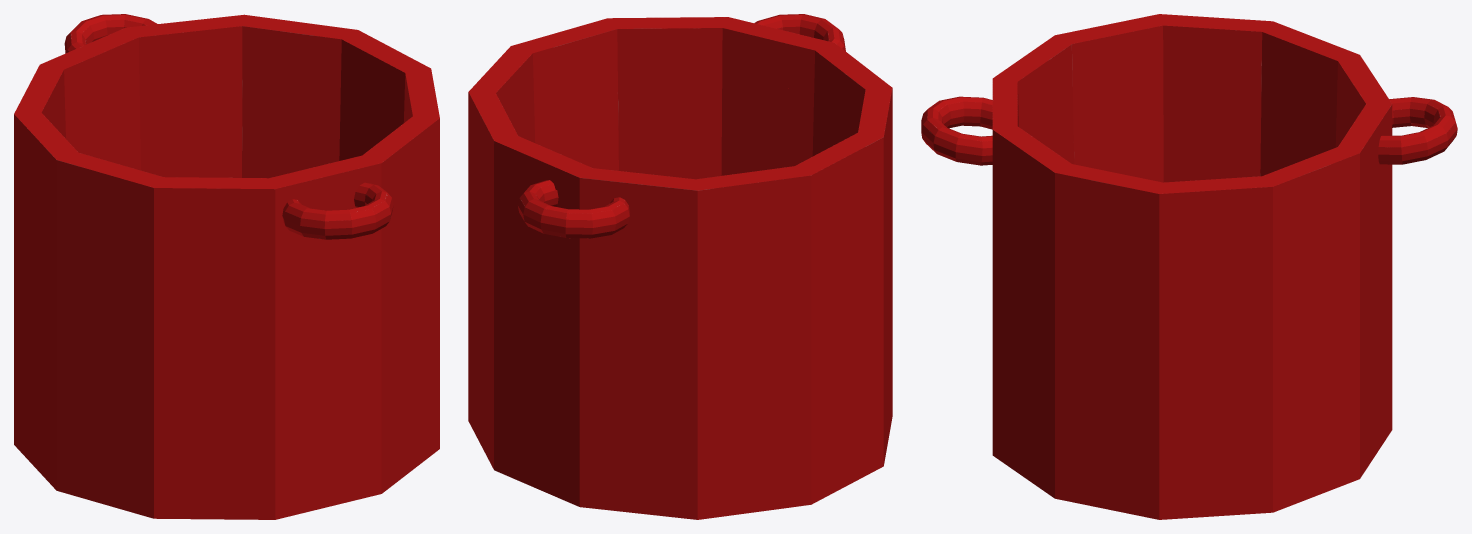
The model's file is OLLA_COLOR (1).fbx.
3 renders of one model, left to right at view 1: azimuth 30°, elevation 25°; view 2: azimuth 150°, elevation 25°; view 3: azimuth 270°, elevation 25°, orthographic.
Visible parts, largest first — view 1: Cylinder, Torus.001, Torus; view 2: Cylinder, Torus, Torus.001; view 3: Cylinder, Torus.001, Torus.
Boxes of the visible parts, left/top/right/bottom form: Cylinder: left=14, top=14, right=439, bottom=519; Torus.001: left=282, top=182, right=393, bottom=239; Torus: left=64, top=14, right=157, bottom=53; Cylinder: left=468, top=17, right=892, bottom=519; Torus: left=517, top=180, right=629, bottom=238; Torus.001: left=754, top=14, right=845, bottom=88; Cylinder: left=992, top=14, right=1392, bottom=519; Torus.001: left=921, top=96, right=992, bottom=165; Torus: left=1378, top=97, right=1457, bottom=164.
Size of the model in its own units: 143 by 120 by 180.
3 materials, 3 textured.
